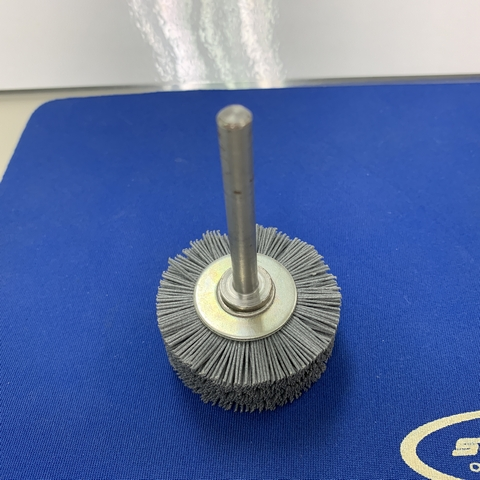Wheel Brush: (149, 148, 362, 415), (155, 102, 330, 411), (172, 107, 346, 412), (152, 177, 358, 406)
